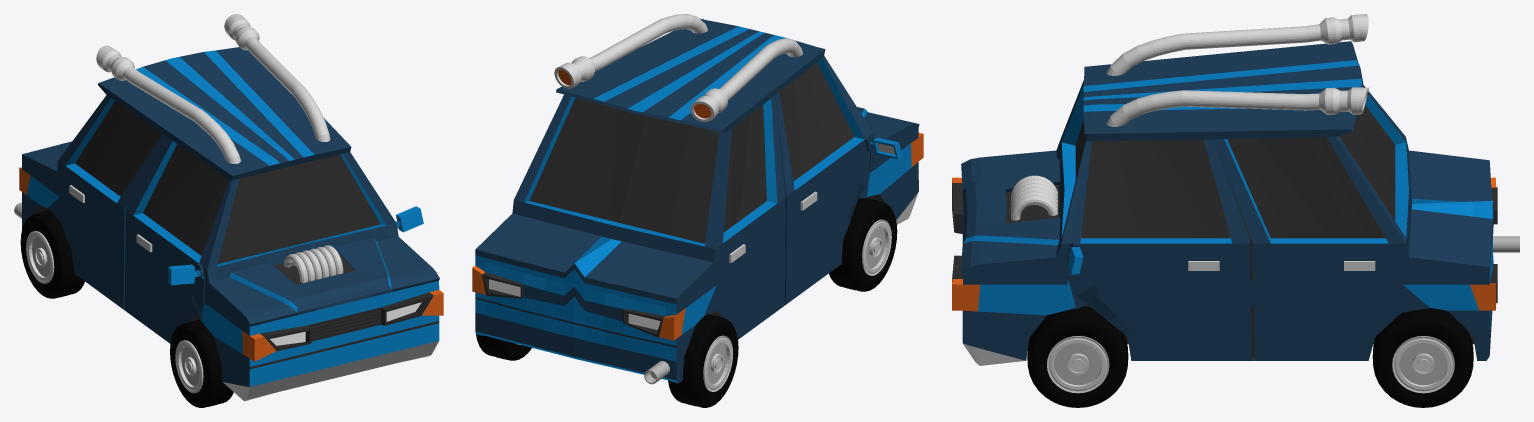
File: CR-CAR-15B.fbx
3 renders of one model, left to right at view 1: azimuth 30°, elevation 25°; view 2: azimuth 150°, elevation 25°; view 3: azimuth 270°, elevation 25°, orthographic. The views are drawn at different scales.
Parts seen in each view (by area): view 1: BODY, WHEEL.001, WHEEL.004; view 2: BODY, WHEEL.004, WHEEL.001, WHEEL.002; view 3: BODY, WHEEL.003, WHEEL.002.
Boxes of the visible parts, x1,y1,x2,y2 form: BODY: [19, 14, 443, 401]; WHEEL.001: [170, 319, 233, 407]; WHEEL.004: [20, 210, 84, 298]; BODY: [472, 14, 923, 383]; WHEEL.004: [668, 314, 738, 407]; WHEEL.001: [829, 198, 897, 291]; WHEEL.002: [475, 333, 531, 360]; BODY: [952, 14, 1497, 365]; WHEEL.003: [1027, 306, 1128, 407]; WHEEL.002: [1372, 308, 1473, 407].
Bounding box in the file's own units: 131 × 128 × 220.
